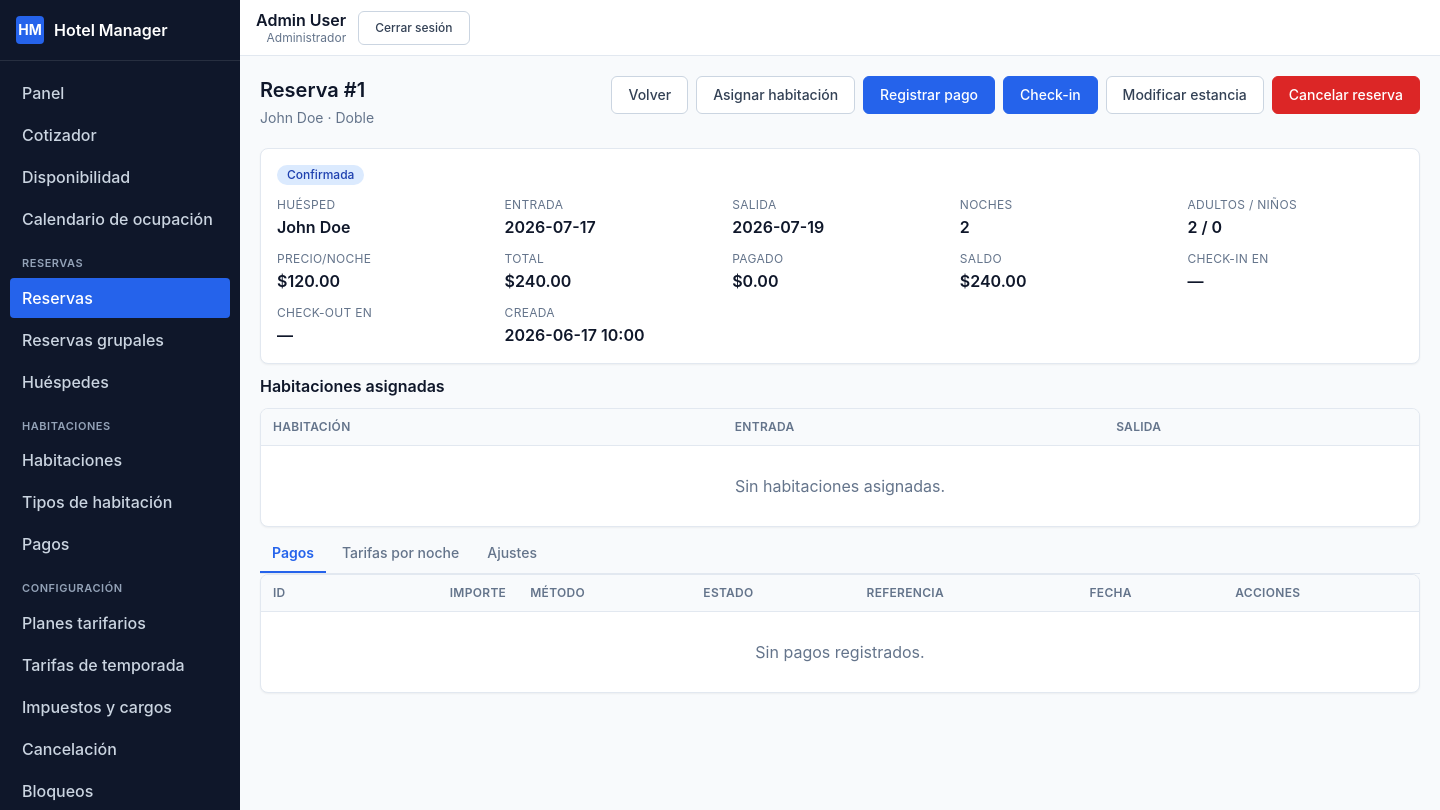
Test: ReservationDetailPage › cancela una reserva confirmada futura
Expected: the heading "Reserva #1" is shown, 260,76 -> 374,104
Click the button "Cancelar reserva" at (1346, 95), box 1272,76 -> 1420,114
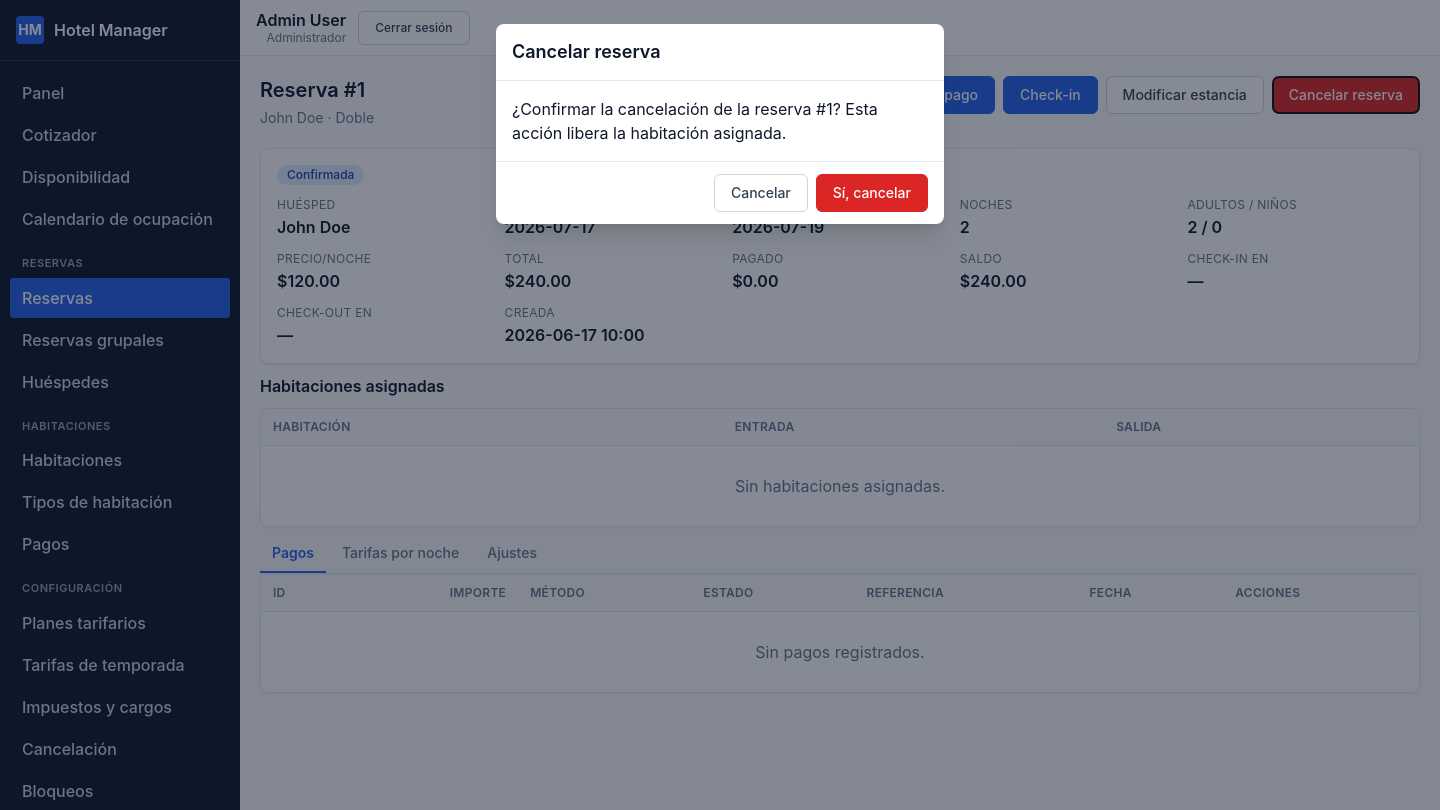
Expected: the heading "Cancelar reserva" is shown, 512,38 -> 661,66
Click the button "Sí, cancelar" at (872, 193), box 816,174 -> 928,212
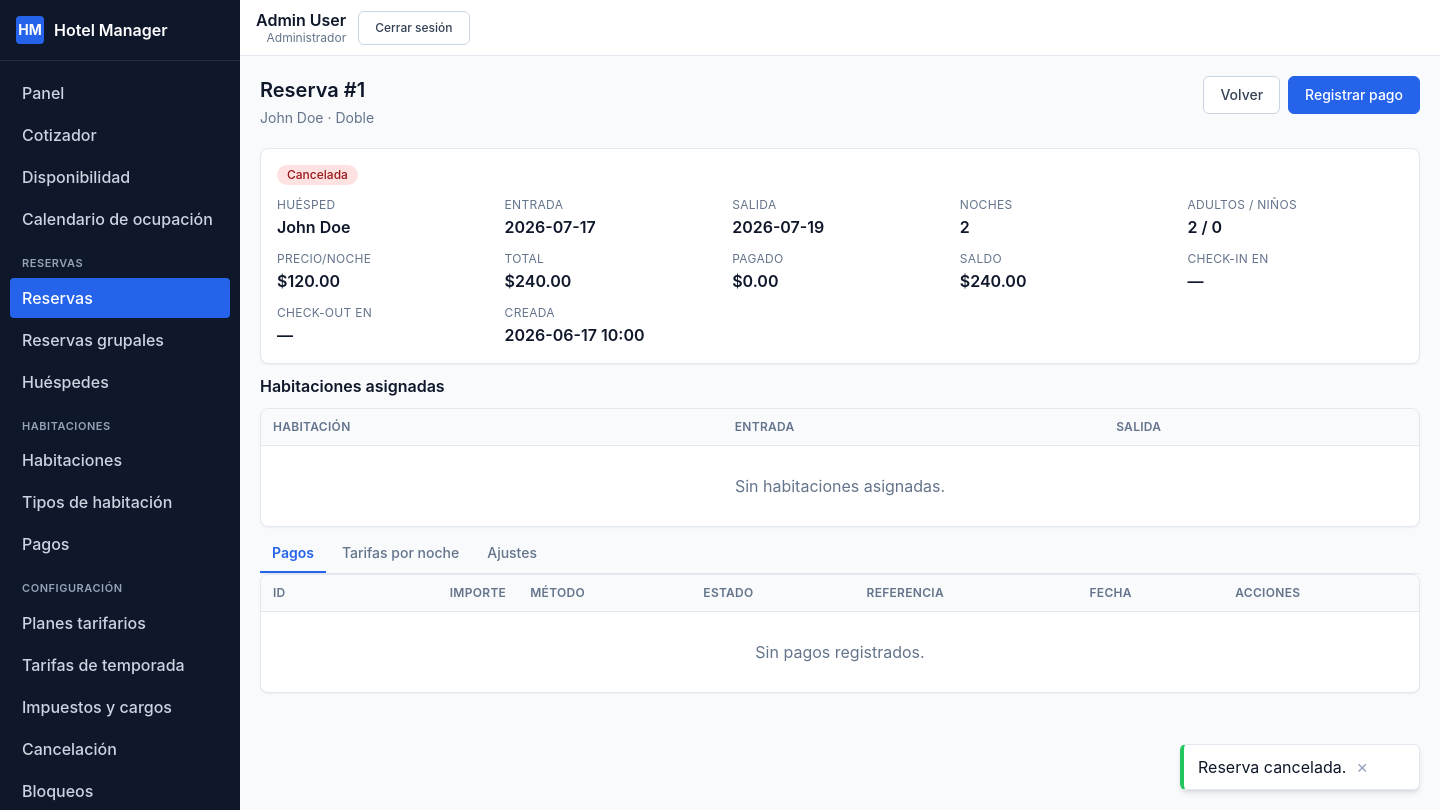
Expected: the text "Reserva cancelada." is shown, 1198,755 -> 1346,779
Expected: the text "Cancelada" is shown, 277,165 -> 358,185
